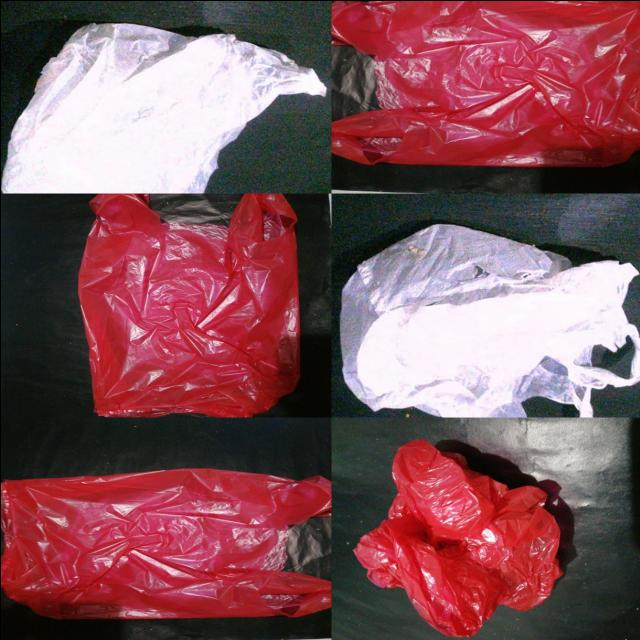plastik: (339, 223, 640, 416), (1, 23, 325, 192), (332, 0, 640, 165), (77, 193, 299, 416), (0, 467, 330, 617), (353, 439, 561, 635)
